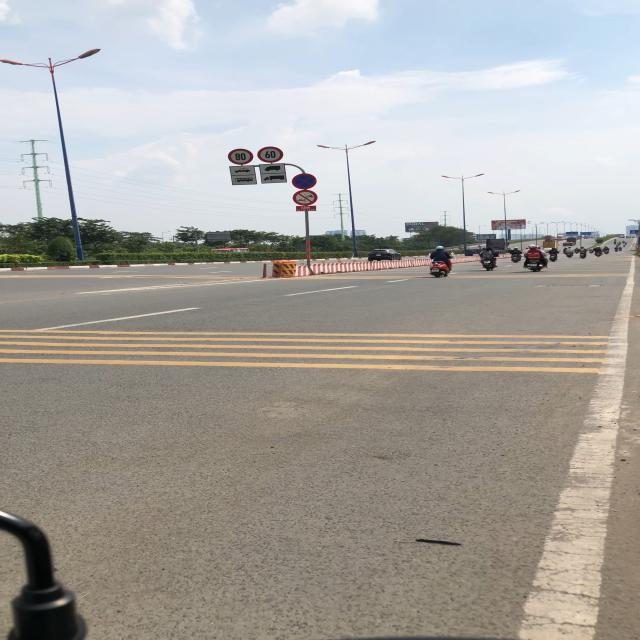Bien bao cam dung xe va do xe: (290, 172, 318, 190)
Bien bao toc do toi da cho phep: (225, 146, 255, 166), (256, 146, 284, 163)
